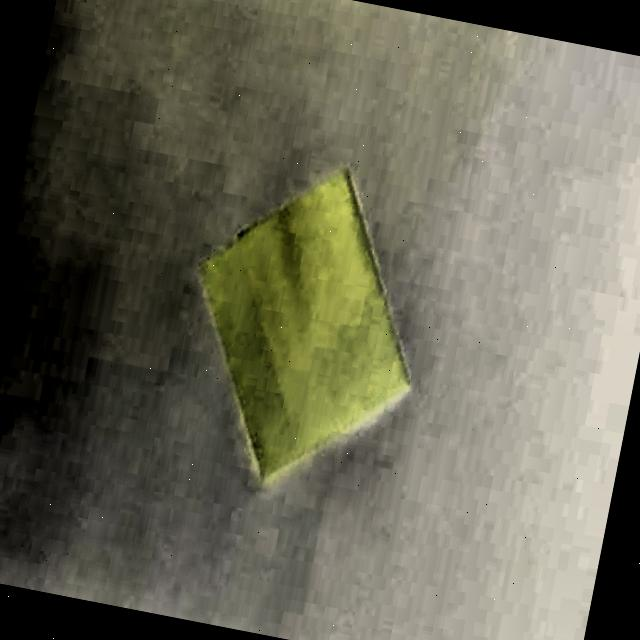paper: (162, 140, 456, 518)
